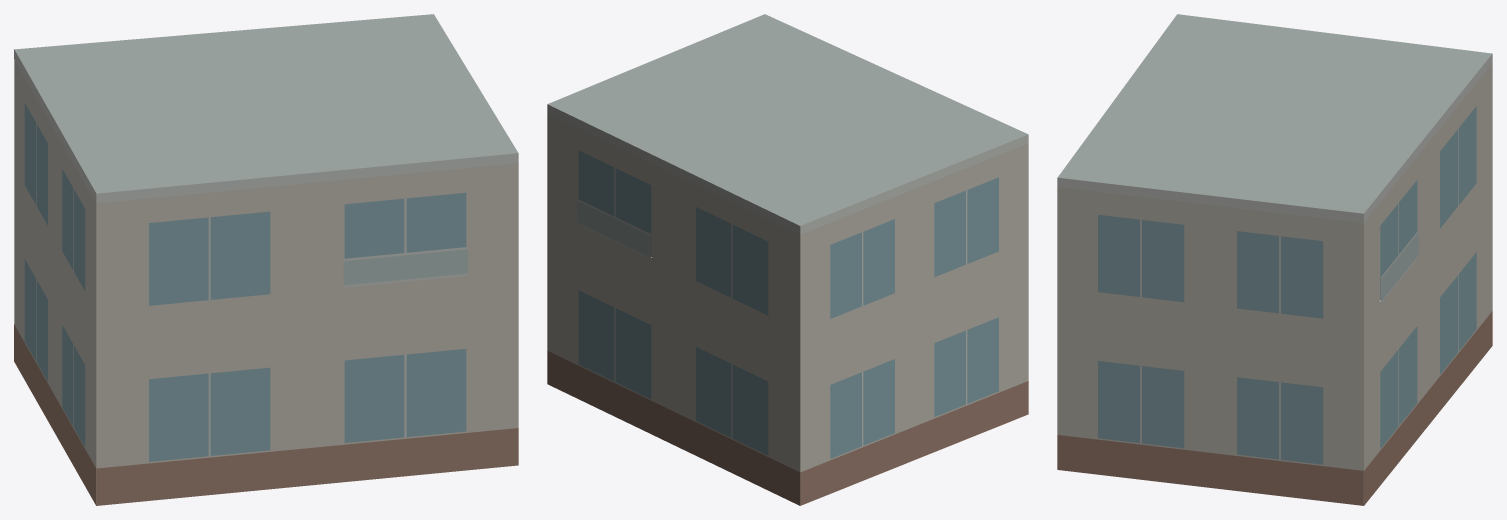
File: survey-upis-32881061.glb
The picture shows the model from 3 angles, left to right: view 1: azimuth 30°, elevation 25°; view 2: azimuth 150°, elevation 25°; view 3: azimuth 270°, elevation 25°; orthographic projection. The views are drawn at different scales.
Parts seen in each view (by area): view 1: survey-upis-32881061.tmp; view 2: survey-upis-32881061.tmp; view 3: survey-upis-32881061.tmp.
Boxes of the visible parts, bbox=[...] form: survey-upis-32881061.tmp: bbox=[14, 14, 518, 505]; survey-upis-32881061.tmp: bbox=[547, 14, 1028, 505]; survey-upis-32881061.tmp: bbox=[1057, 14, 1492, 505].
Bounding box in the file's own units: 11.29 × 7.7 × 10.4.
